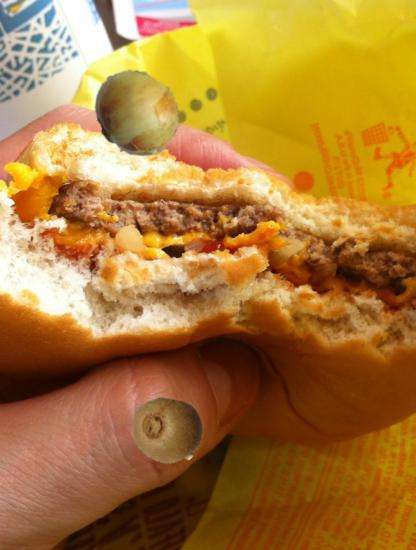Kiwi: (132, 393, 205, 466)
Onion: (91, 66, 185, 160)
